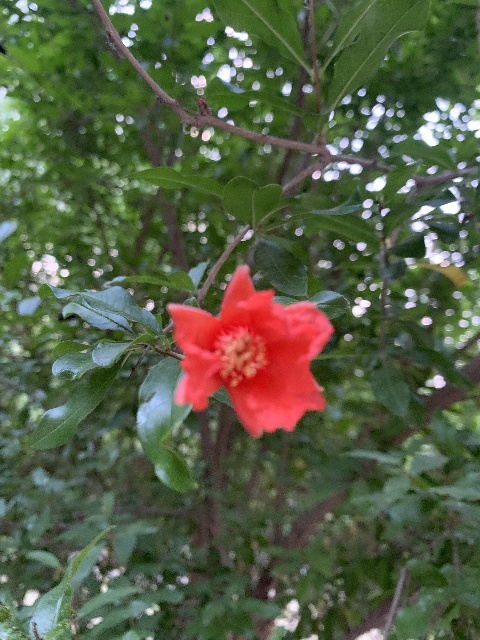flower: (166, 265, 334, 438)
